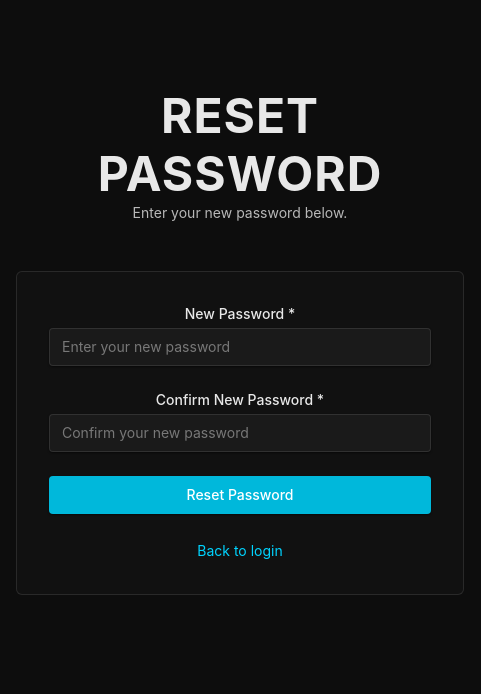
ResetPasswordPage › Password Strength Validation › should show password strength indicator
Test weak password
Type "weak" into the password field labelled "New Password *". click: (240, 347)
box: [49,328,431,366]
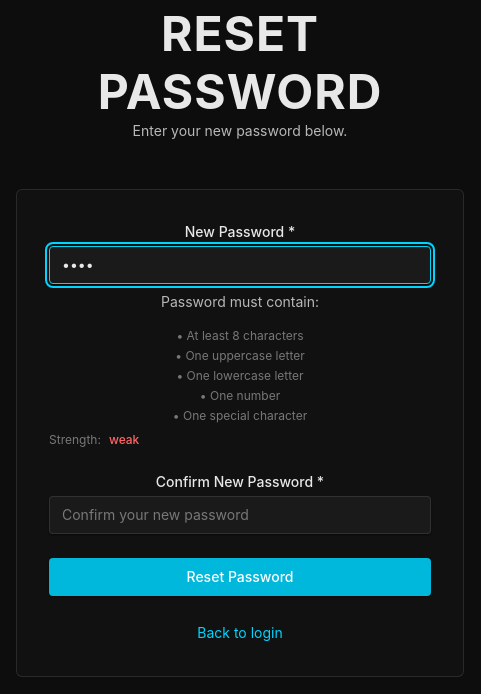
Expected: the text "weak" is shown, [109,432,139,448]
Test medium password
Clear the password field labelled "New Password *". click: (240, 265)
box: [49,246,431,284]
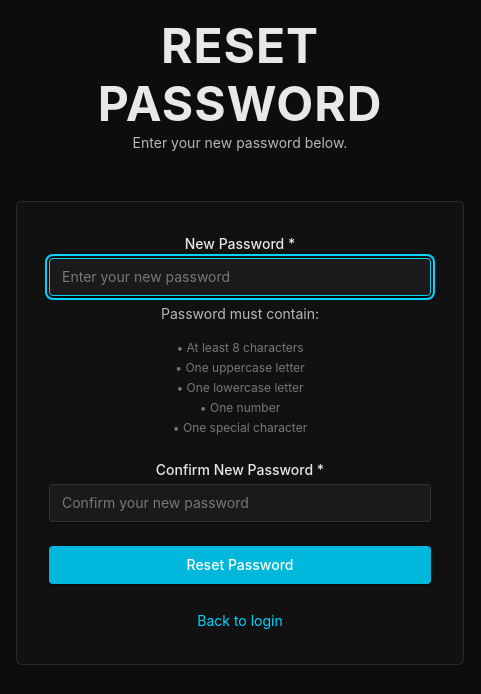
Type "Password1" into the password field labelled "New Password *". click: (240, 277)
box: [49,258,431,296]
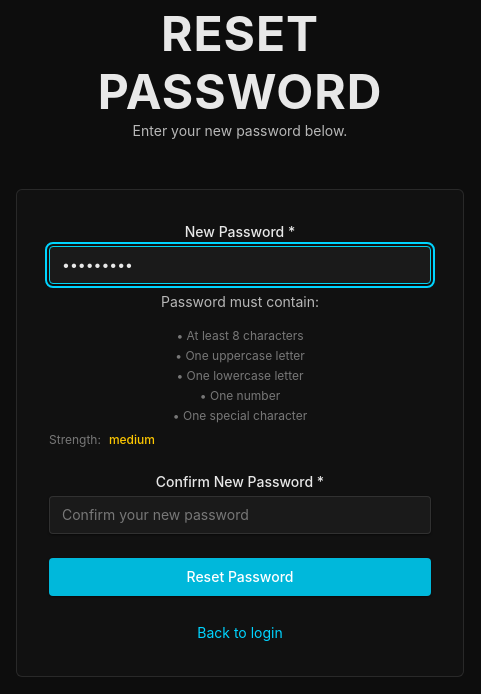
Expected: the text "medium" is shown, [109,432,155,448]
Test strong password
Clear the password field labelled "New Password *". click: (240, 265)
box: [49,246,431,284]
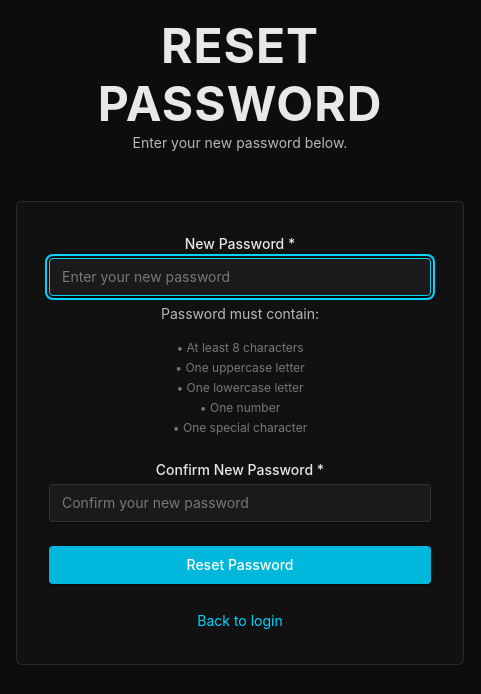
Type "StrongPass123!" into the password field labelled "New Password *". click: (240, 277)
box: [49,258,431,296]
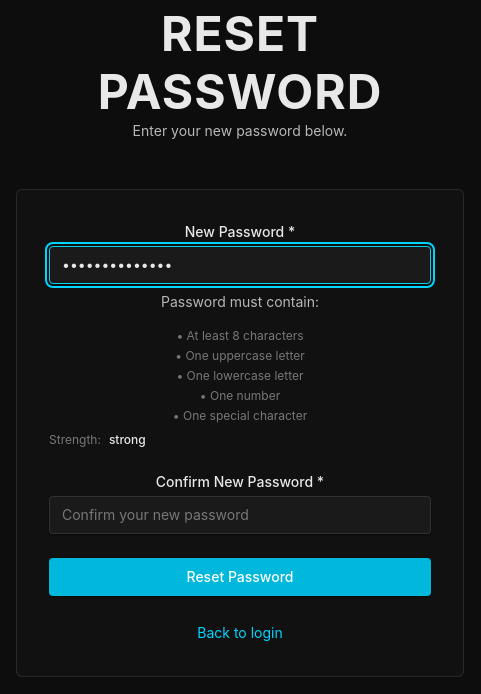
Expected: the text "strong" is shown, [109,432,146,448]
